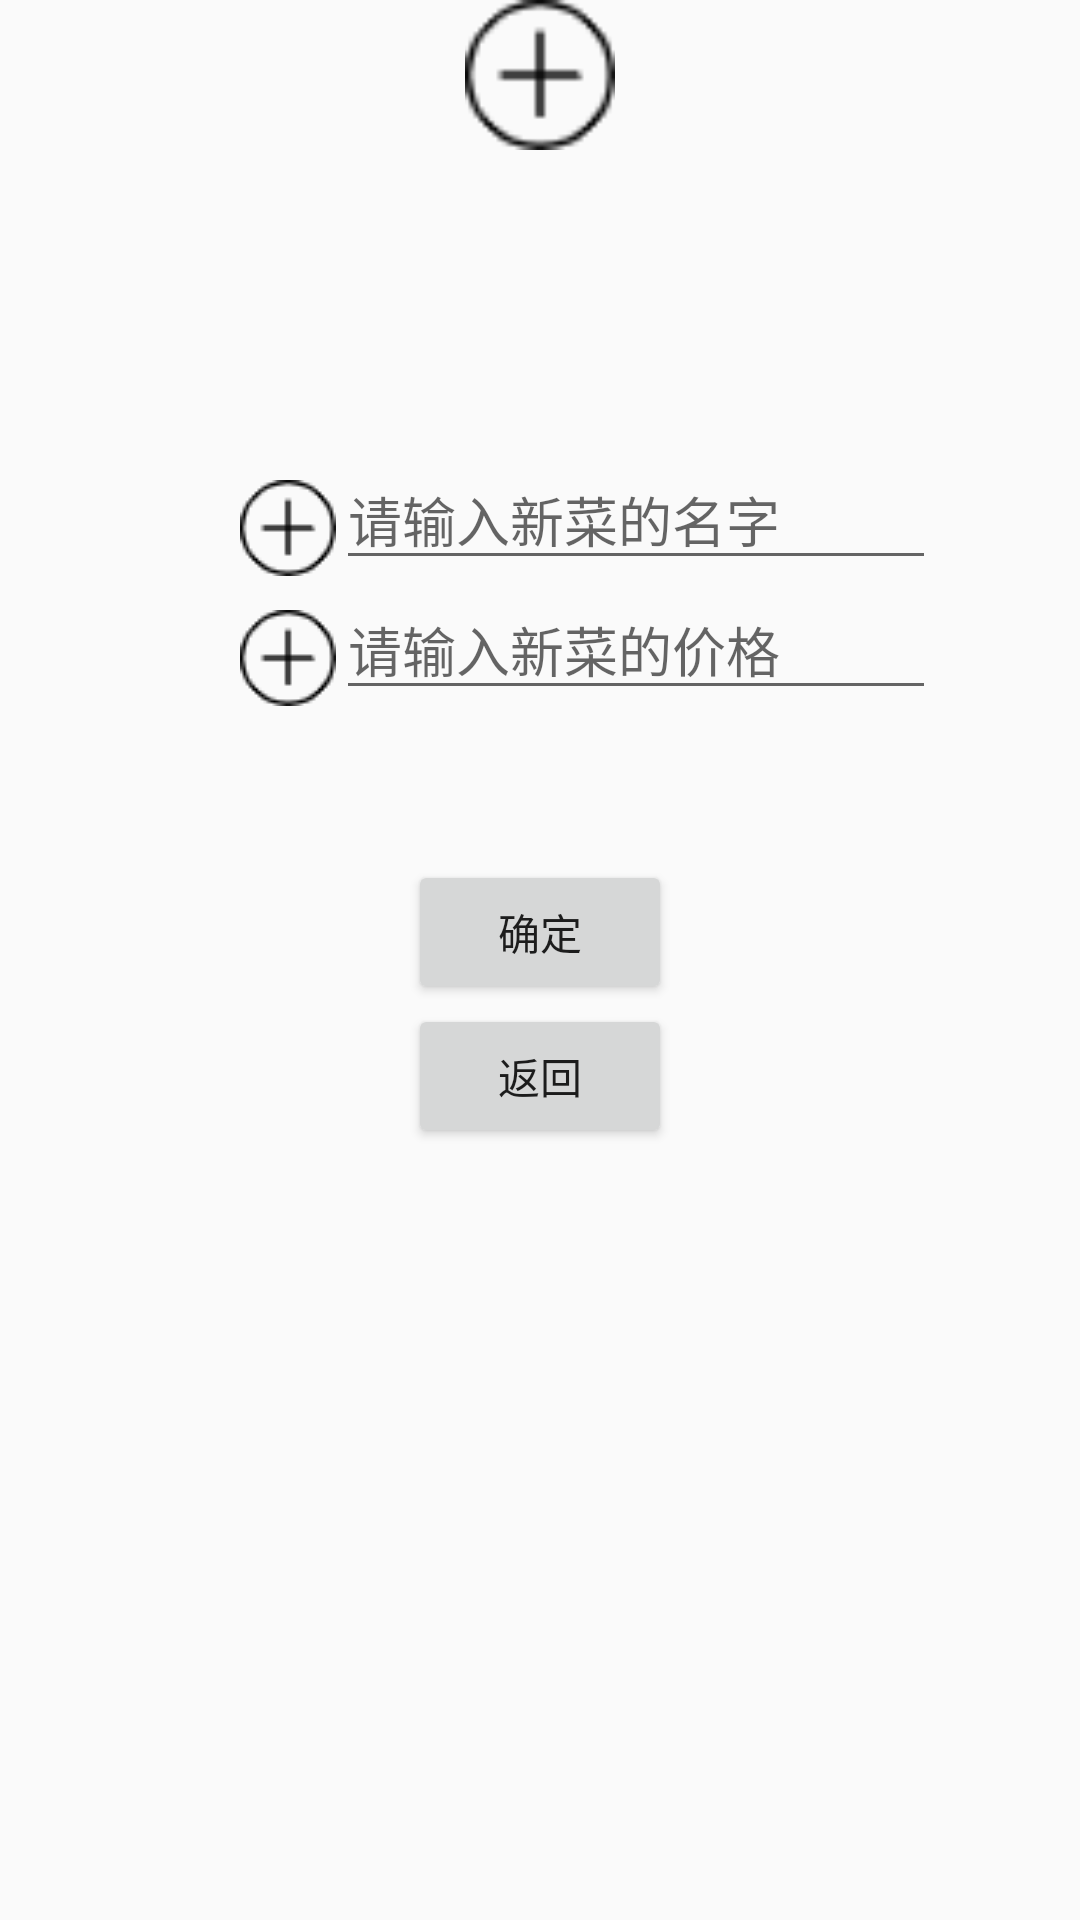

Icons on this 1080w x 1920h Android screen, each with its box as bbox=[x1, y1, x2, y2]:
add: bbox=[465, 0, 615, 150], bbox=[240, 480, 336, 576], bbox=[240, 610, 336, 706]
